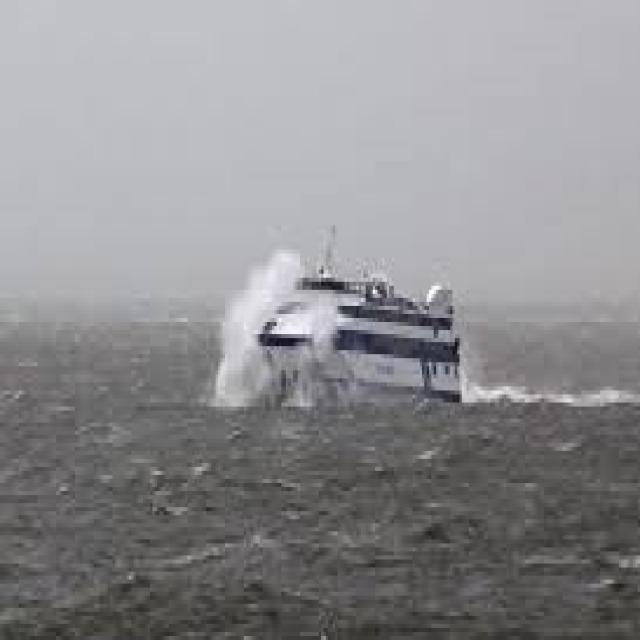passenger ship: (241, 246, 484, 414)
